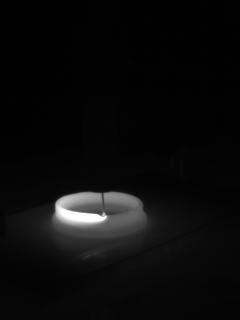tip_wire_left: (88, 186, 105, 216)
tip_wire_right: (102, 186, 115, 217)
